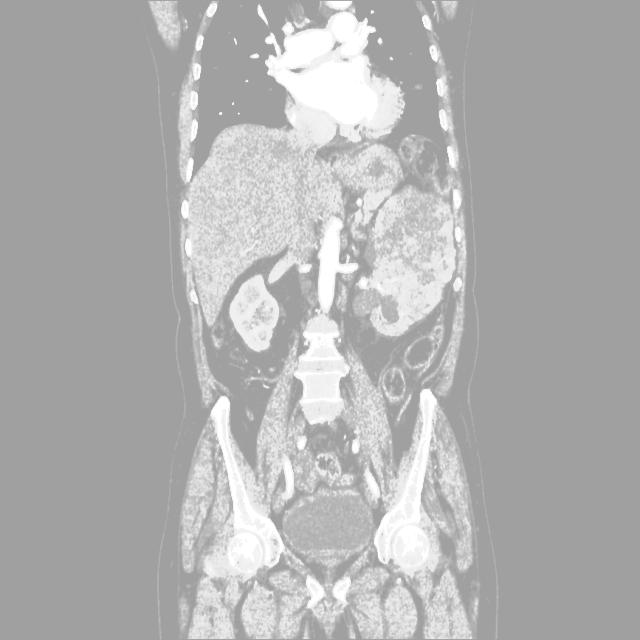TUMOR: (124, 174, 503, 342)
